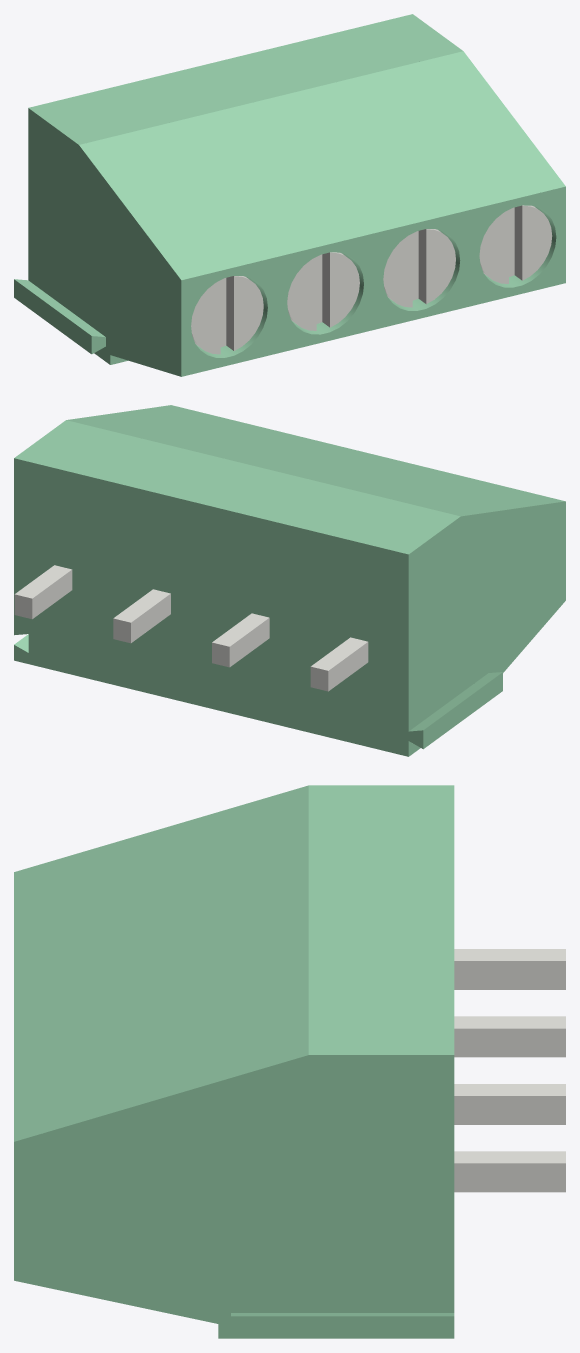
File: TerminalBlock_Phoenix_MKDS-1,5-4_1x04_P5.00mm_Horizontal.glb
The picture shows the model from 3 angles, top to bottom: view 1: azimuth 30°, elevation 25°; view 2: azimuth 150°, elevation 25°; view 3: azimuth 270°, elevation 25°; orthographic projection. The views are drawn at different scales.
Visible parts, largest first — view 1: Shape_IndexedFaceSet.003, Shape_IndexedFaceSet, Shape_IndexedFaceSet.004, Shape_IndexedFaceSet.002, Shape_IndexedFaceSet.127, Shape_IndexedFaceSet.117, Shape_IndexedFaceSet.147, Shape_IndexedFaceSet.137, Shape_IndexedFaceSet.141, Shape_IndexedFaceSet.151, Shape_IndexedFaceSet.121, Shape_IndexedFaceSet.131 (+13 smaller); view 2: Shape_IndexedFaceSet.005, Shape_IndexedFaceSet, Shape_IndexedFaceSet.004, Shape_IndexedFaceSet.003, Shape_IndexedFaceSet.016, Shape_IndexedFaceSet.021, Shape_IndexedFaceSet.029, Shape_IndexedFaceSet.033, Shape_IndexedFaceSet.025, Shape_IndexedFaceSet.006, Shape_IndexedFaceSet.026, Shape_IndexedFaceSet.022 (+2 smaller); view 3: Shape_IndexedFaceSet.011, Shape_IndexedFaceSet.003, Shape_IndexedFaceSet.004, Shape_IndexedFaceSet.023, Shape_IndexedFaceSet.031, Shape_IndexedFaceSet.027, Shape_IndexedFaceSet.035, Shape_IndexedFaceSet.018, Shape_IndexedFaceSet.022, Shape_IndexedFaceSet.030, Shape_IndexedFaceSet.026, Shape_IndexedFaceSet.034 (+1 smaller).
Part boxes in pixels (x1,y1,x2,y2): Shape_IndexedFaceSet.003: (79,51,565,280); Shape_IndexedFaceSet: (28,108,181,376); Shape_IndexedFaceSet.004: (28,14,463,144); Shape_IndexedFaceSet.002: (181,186,565,376); Shape_IndexedFaceSet.127: (522,205,552,280); Shape_IndexedFaceSet.117: (426,229,455,303); Shape_IndexedFaceSet.147: (330,252,359,327); Shape_IndexedFaceSet.137: (234,276,263,350); Shape_IndexedFaceSet.141: (191,280,220,354); Shape_IndexedFaceSet.151: (287,257,316,330); Shape_IndexedFaceSet.121: (383,233,412,307); Shape_IndexedFaceSet.131: (479,210,508,283); Shape_IndexedFaceSet.005: (14,458,423,756); Shape_IndexedFaceSet: (408,501,565,756); Shape_IndexedFaceSet.004: (14,420,460,554); Shape_IndexedFaceSet.003: (66,405,564,516); Shape_IndexedFaceSet.016: (423,672,502,748); Shape_IndexedFaceSet.021: (32,570,72,618); Shape_IndexedFaceSet.029: (229,618,269,666); Shape_IndexedFaceSet.033: (328,642,368,691); Shape_IndexedFaceSet.025: (131,594,170,642); Shape_IndexedFaceSet.006: (409,672,502,731); Shape_IndexedFaceSet.026: (113,589,170,622); Shape_IndexedFaceSet.022: (15,565,71,598); Shape_IndexedFaceSet.011: (14,1055,454,1338); Shape_IndexedFaceSet.003: (14,785,308,1141); Shape_IndexedFaceSet.004: (308,785,454,1054); Shape_IndexedFaceSet.023: (454,1163,565,1192); Shape_IndexedFaceSet.031: (454,1028,565,1057); Shape_IndexedFaceSet.027: (454,1096,565,1124); Shape_IndexedFaceSet.035: (454,961,565,989); Shape_IndexedFaceSet.018: (231,1303,454,1312); Shape_IndexedFaceSet.022: (454,1151,565,1163); Shape_IndexedFaceSet.030: (454,1016,565,1028); Shape_IndexedFaceSet.026: (454,1084,565,1095); Shape_IndexedFaceSet.034: (454,949,565,960).
Size of the model in its own units: 8.17 by 3.86 by 6.81.
